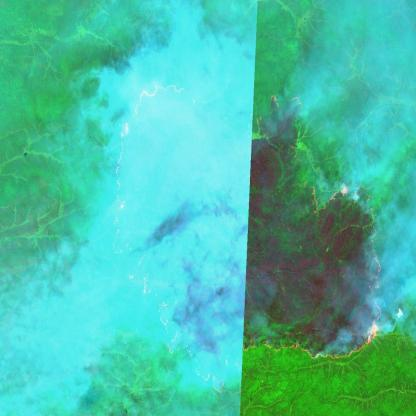fire: (108, 78, 386, 394)
